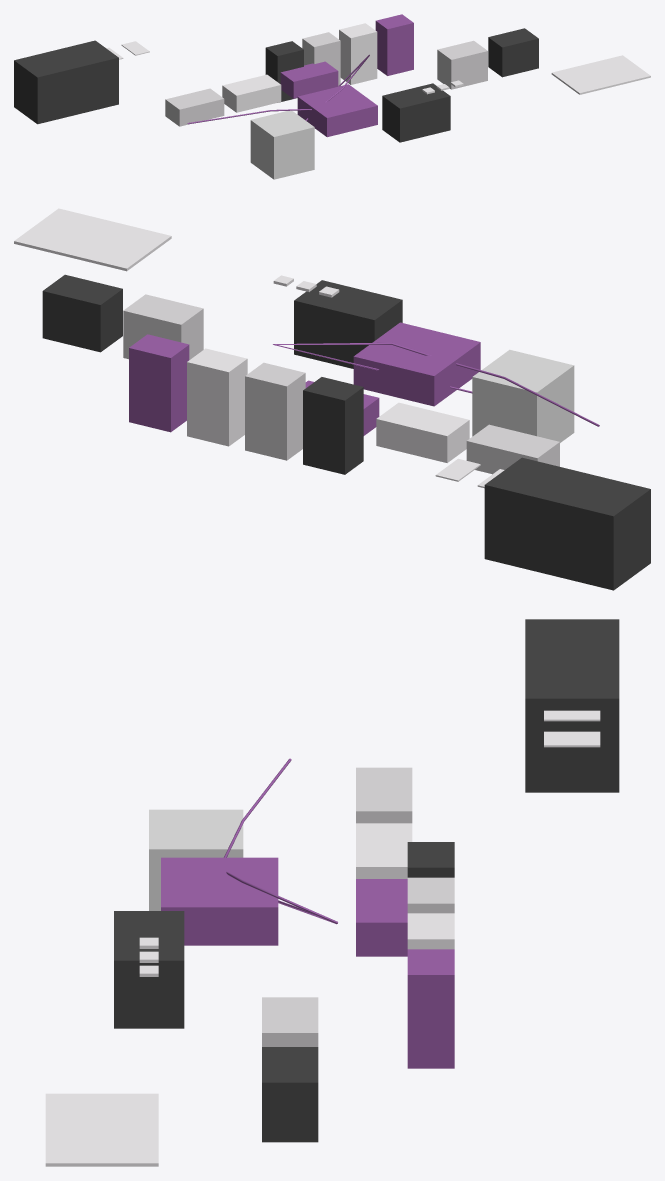
Rendered from archive_world_v3.glb.
3 views of the same model, one above another, from view 1: azimuth 30°, elevation 25°; view 2: azimuth 150°, elevation 25°; view 3: azimuth 270°, elevation 25° (orthographic). The views are drawn at different scales.
Visible parts, largest first — view 1: RAM_ArchiveVault.001, Cube, RAM_Rerank, RAM_QueryCore.001, RAM_AnswerSurface.001, RAM_MetadataIndex, RAM_ExactIndex, RAM_Verification.001, RAM_Synthesis.001, RAM_Normalization, RAM_Extraction, RAM_Chunking (+3 smaller); view 2: RAM_ArchiveVault.001, Cube, RAM_QueryCore.001, RAM_Rerank, RAM_AnswerSurface.001, RAM_DenseIndex, RAM_ExactIndex, RAM_BM25Index, RAM_MetadataIndex, RAM_Verification.001, RAM_Normalization, RAM_Synthesis.001 (+4 smaller); view 3: RAM_ArchiveVault.001, RAM_QueryCore.001, RAM_AnswerSurface.001, RAM_Rerank, RAM_MetadataIndex, RAM_Verification.001, Cube, RAM_Chunking, RAM_Extraction, RAM_Normalization, RAM_Synthesis.001, RAM_ExactIndex (+4 smaller).
Part boxes in pixels (left/top/right/bottom): RAM_ArchiveVault.001: left=14, top=40, right=118, bottom=124; Cube: left=250, top=110, right=314, bottom=179; RAM_Rerank: left=382, top=83, right=450, bottom=142; RAM_QueryCore.001: left=297, top=84, right=377, bottom=137; RAM_AnswerSurface.001: left=551, top=55, right=650, bottom=94; RAM_MetadataIndex: left=375, top=14, right=413, bottom=75; RAM_ExactIndex: left=339, top=23, right=377, bottom=84; RAM_Verification.001: left=488, top=28, right=538, bottom=77; RAM_Synthesis.001: left=437, top=40, right=487, bottom=89; RAM_Normalization: left=222, top=74, right=281, bottom=112; RAM_Extraction: left=165, top=88, right=224, bottom=126; RAM_Chunking: left=280, top=61, right=338, bottom=98; RAM_ArchiveVault.001: left=484, top=457, right=650, bottom=590; Cube: left=472, top=349, right=574, bottom=442; RAM_QueryCore.001: left=353, top=322, right=480, bottom=406; RAM_Rerank: left=294, top=280, right=402, bottom=368; RAM_AnswerSurface.001: left=14, top=208, right=171, bottom=271; RAM_DenseIndex: left=303, top=377, right=363, bottom=474; RAM_ExactIndex: left=187, top=348, right=247, bottom=446; RAM_BM25Index: left=245, top=362, right=305, bottom=460; RAM_MetadataIndex: left=129, top=334, right=189, bottom=432; RAM_Verification.001: left=42, top=274, right=122, bottom=352; RAM_Normalization: left=376, top=402, right=469, bottom=462; RAM_Synthesis.001: left=123, top=294, right=203, bottom=359; RAM_ArchiveVault.001: left=525, top=619, right=619, bottom=792; RAM_QueryCore.001: left=161, top=857, right=278, bottom=945; RAM_AnswerSurface.001: left=45, top=1093, right=158, bottom=1166; RAM_Rerank: left=114, top=911, right=184, bottom=1028; RAM_MetadataIndex: left=407, top=949, right=454, bottom=1068; RAM_Verification.001: left=262, top=1047, right=318, bottom=1142; Cube: left=149, top=809, right=243, bottom=910; RAM_Chunking: left=356, top=879, right=407, bottom=956; RAM_Extraction: left=356, top=767, right=412, bottom=823; RAM_Normalization: left=356, top=823, right=412, bottom=878; RAM_Synthesis.001: left=262, top=997, right=318, bottom=1046; RAM_ExactIndex: left=407, top=913, right=454, bottom=949.
Bounding box in the file's own units: 24.25 × 3.2 × 12.2.
